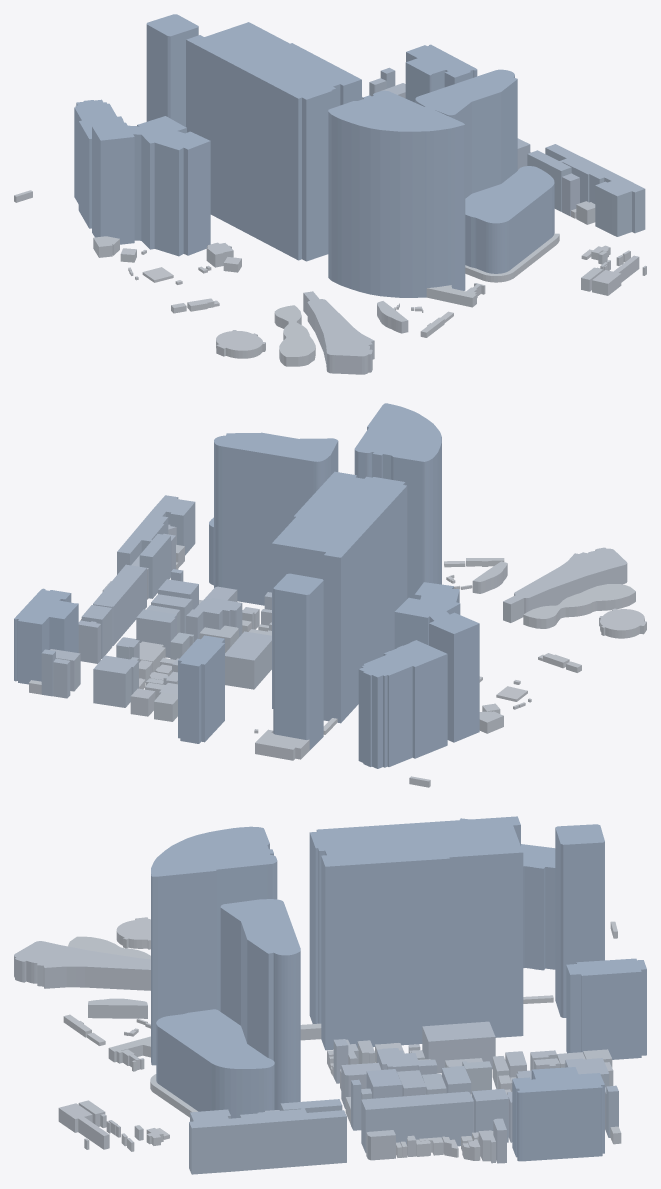
3 views of the same model, one above another, from view 1: azimuth 30°, elevation 25°; view 2: azimuth 150°, elevation 25°; view 3: azimuth 270°, elevation 25° (orthographic). The views are drawn at different scales.
Bounding box in the file's own units: 538 × 190 × 579.
